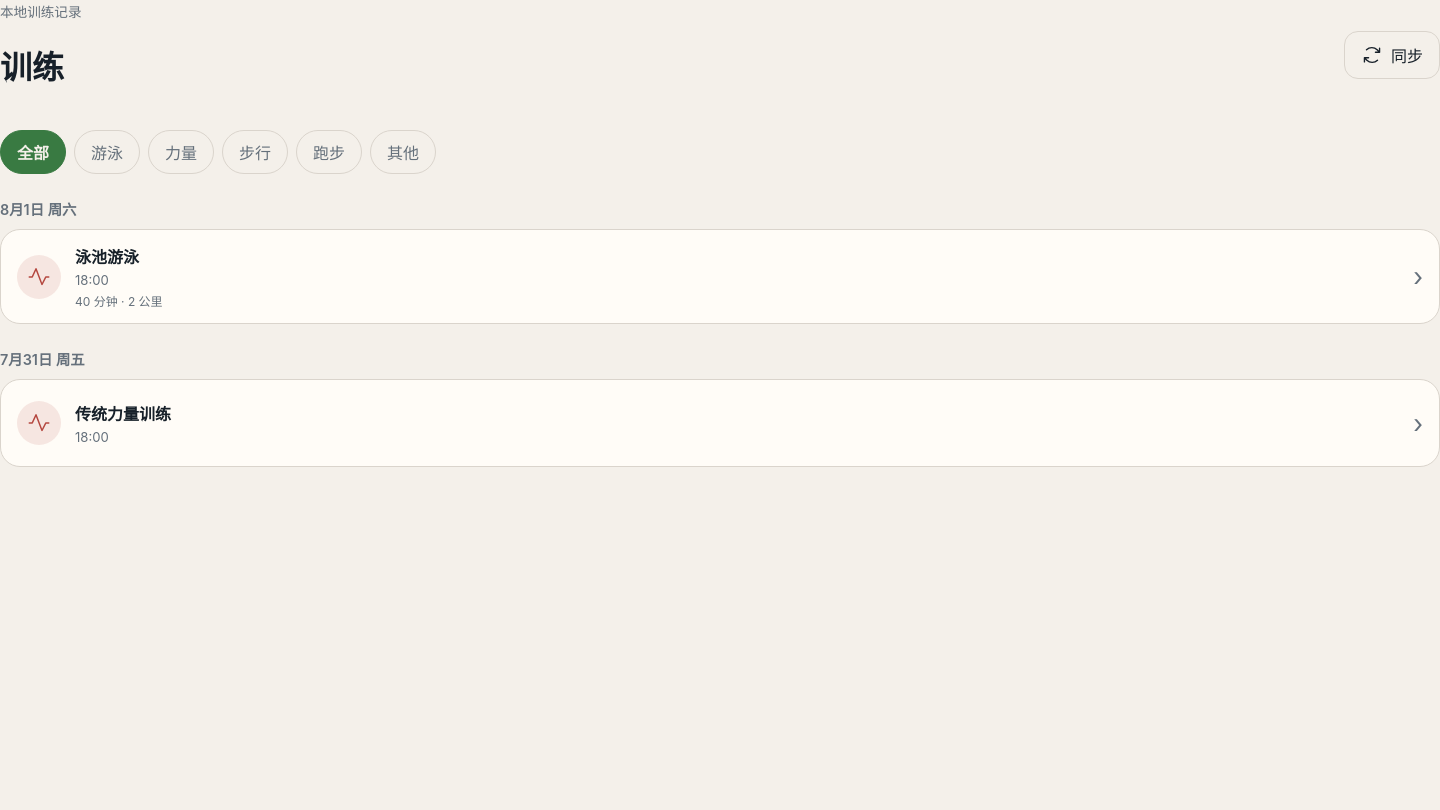
Scenario: filters swimming and does not fabricate zones without timestamped samples
Click the button "游泳" at (107, 152), box [74, 130, 140, 174]
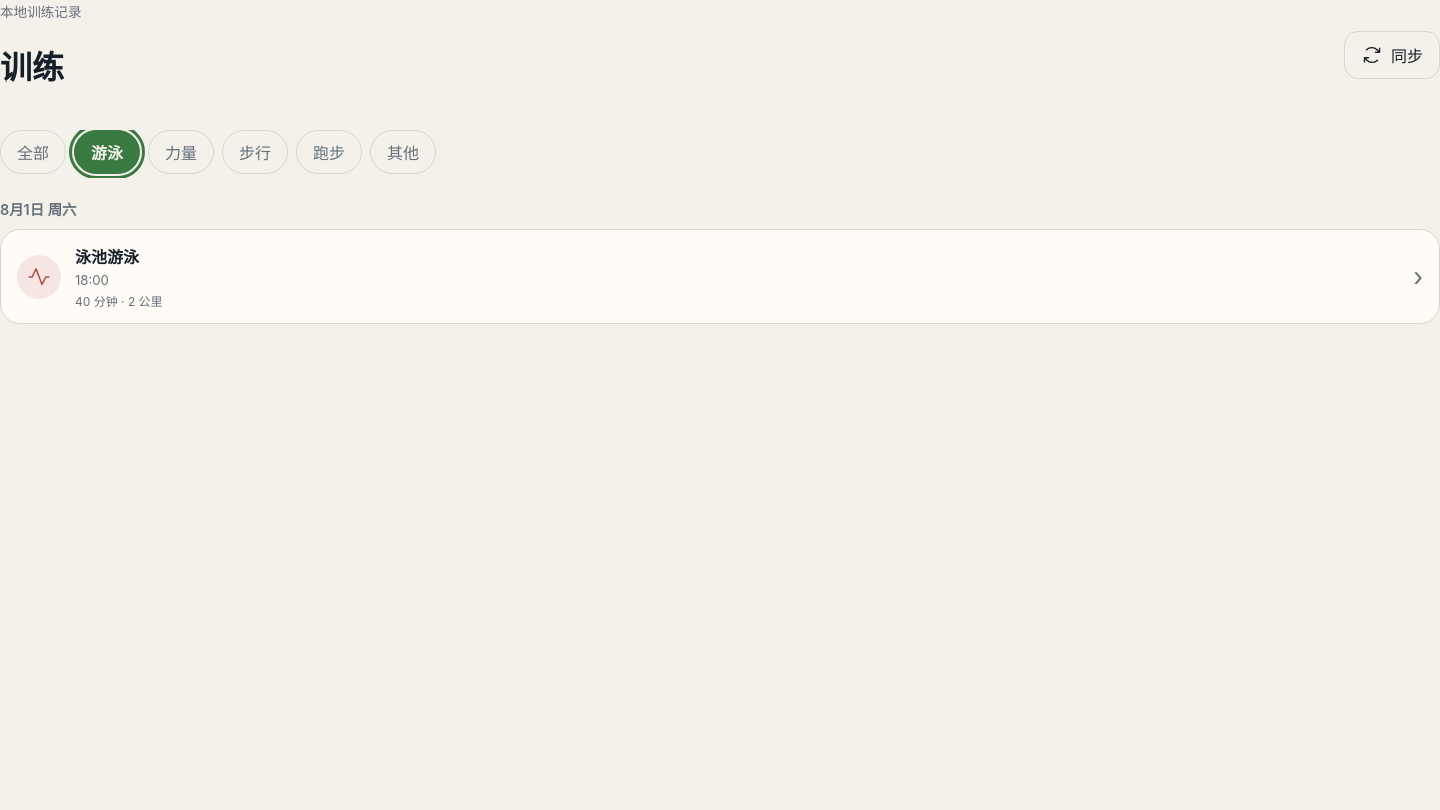
Click the button "泳池游泳 18:00 40 分钟 · 2 公里 ›" at (39, 276), box [1, 230, 1439, 323]
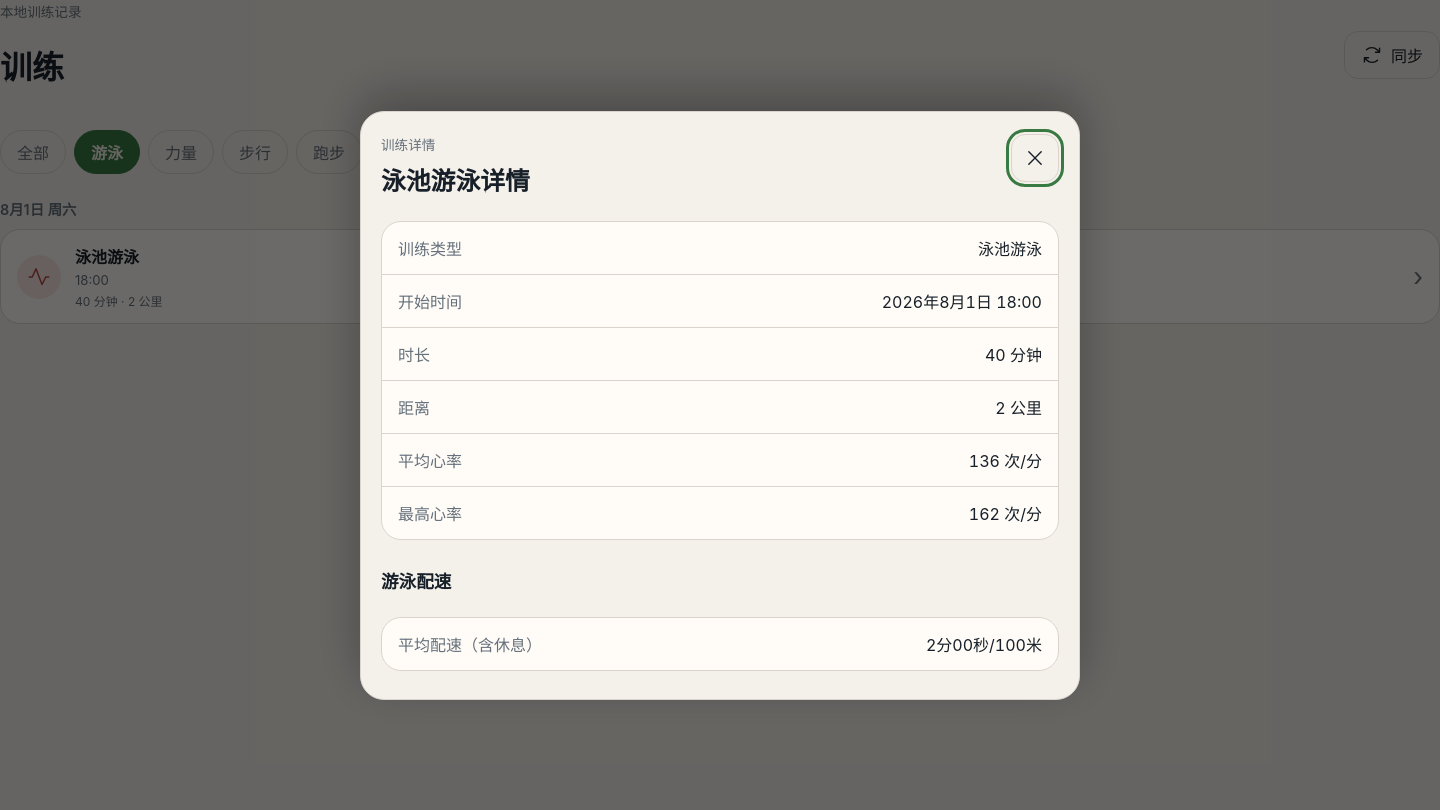
Expected: the text "平均配速（含休息）" is shown, [398, 632, 542, 656]
